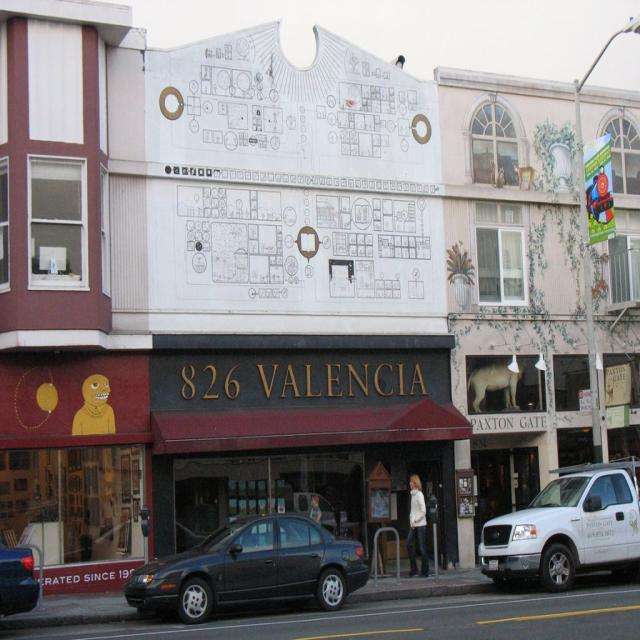car: (121, 513, 369, 624)
